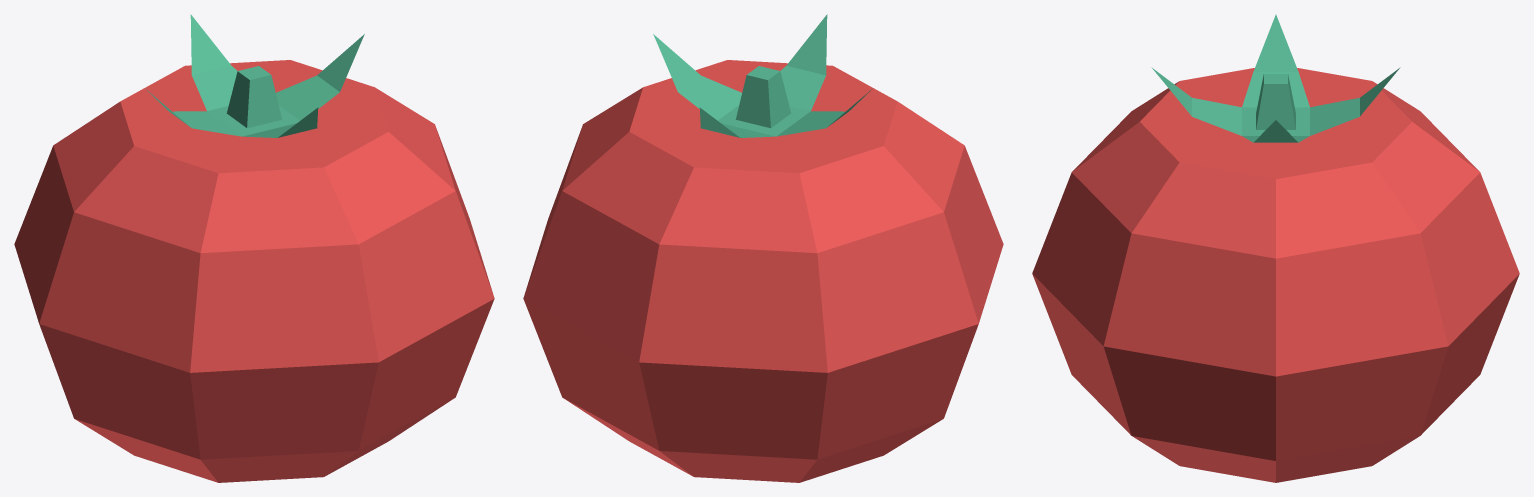
File: tomato.obj
3 renders of one model, left to right at view 1: azimuth 30°, elevation 25°; view 2: azimuth 150°, elevation 25°; view 3: azimuth 270°, elevation 25°, orthographic.
Parts seen in each view (by area): view 1: tomato; view 2: tomato; view 3: tomato.
Part boxes in pixels (<box>): tomato: <box>14,14,494,482</box>; tomato: <box>523,14,1003,482</box>; tomato: <box>1032,14,1519,482</box>.
Size of the model in its own units: 0.1697 by 0.1377 by 0.1697.
